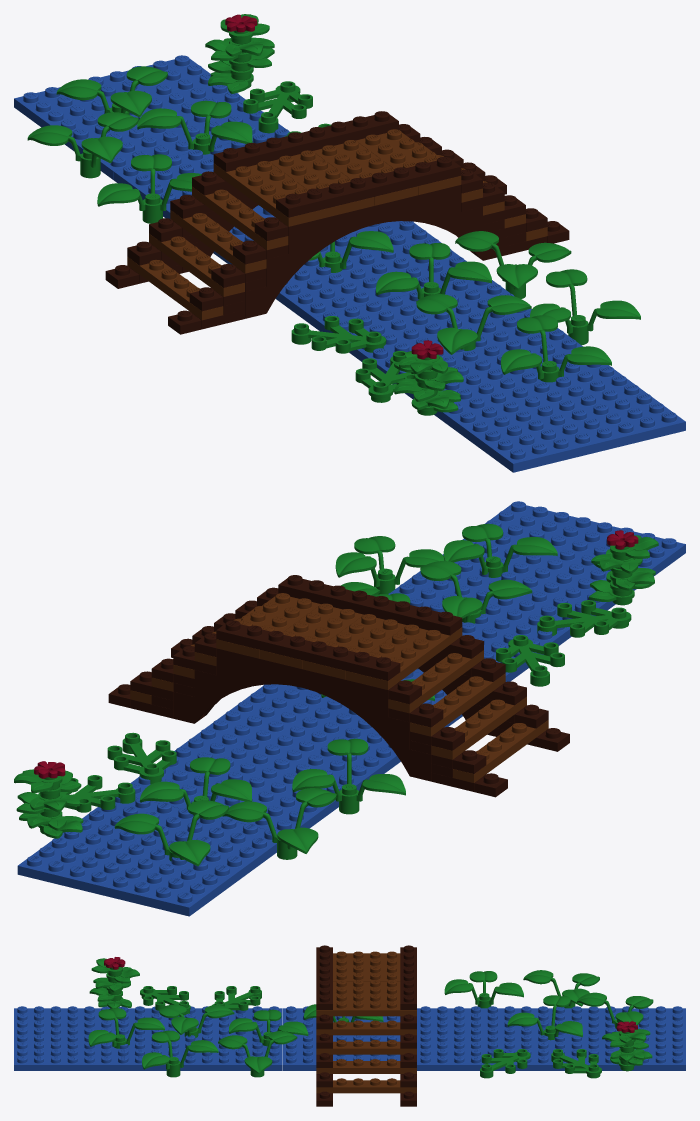
The model's file is bridge.glb.
3 views of the same model, one above another, from view 1: azimuth 30°, elevation 25°; view 2: azimuth 150°, elevation 25°; view 3: azimuth 270°, elevation 25° (orthographic). The views are drawn at different scales.
Parts seen in each view (by area): view 1: MB|23-material.016, MB|23-material.014, MB|23-material.018, MB|308-material.001, MB|308-material.002, MB|308-material.003, MB|192-material.008, MB|28-material.008, MB|28-material.003, MB|28-material.006, MB|28-material.004, MB|28-material.002 (+17 smaller); view 2: MB|23-material.014, MB|23-material.018, MB|23-material.016, MB|308-material, MB|308-material.003, MB|308-material.002, MB|28-material.009, MB|192-material.008, MB|28-material.003, MB|28-material.008, MB|28-material.004, MB|28-material.007 (+18 smaller); view 3: MB|23-material.016, MB|23-material.014, MB|23-material.018, MB|192-material.007, MB|28-material.004, MB|28-material.009, MB|28-material.006, MB|28-material.003, MB|192-material.016, MB|192-material.011, MB|192-material.013, MB|28-material.005 (+24 smaller).
Boxes of the visible parts, bbox=[...] form: MB|23-material.016: bbox=[313, 280, 685, 472]; MB|23-material.014: bbox=[114, 128, 467, 326]; MB|23-material.018: bbox=[14, 55, 285, 180]; MB|308-material.001: bbox=[245, 185, 504, 318]; MB|308-material.002: bbox=[276, 157, 461, 217]; MB|308-material.003: bbox=[213, 111, 398, 171]; MB|192-material.008: bbox=[213, 161, 331, 226]; MB|28-material.008: bbox=[27, 112, 138, 178]; MB|28-material.003: bbox=[501, 315, 611, 382]; MB|28-material.006: bbox=[137, 100, 252, 154]; MB|28-material.004: bbox=[530, 269, 640, 345]; MB|28-material.002: bbox=[376, 243, 491, 299]; MB|23-material.014: bbox=[130, 671, 462, 831]; MB|23-material.018: bbox=[17, 797, 278, 916]; MB|23-material.016: bbox=[388, 501, 685, 681]; MB|308-material: bbox=[173, 648, 431, 781]; MB|308-material.003: bbox=[216, 620, 400, 680]; MB|308-material.002: bbox=[278, 575, 462, 635]; MB|28-material.009: bbox=[292, 738, 405, 814]; MB|192-material.008: bbox=[345, 624, 462, 689]; MB|28-material.003: bbox=[443, 523, 557, 577]; MB|28-material.008: bbox=[222, 788, 336, 859]; MB|28-material.004: bbox=[335, 536, 444, 594]; MB|28-material.007: bbox=[114, 800, 228, 866]; MB|23-material.016: bbox=[14, 1006, 282, 1070]; MB|23-material.014: bbox=[283, 1006, 551, 1070]; MB|23-material.018: bbox=[551, 1006, 685, 1070]; MB|192-material.007: bbox=[316, 994, 416, 1016]; MB|28-material.004: bbox=[142, 1030, 218, 1077]; MB|28-material.009: bbox=[444, 971, 523, 1008]; MB|28-material.006: bbox=[507, 995, 582, 1040]; MB|28-material.003: bbox=[88, 1008, 164, 1048]; MB|192-material.016: bbox=[316, 1078, 416, 1093]; MB|192-material.011: bbox=[316, 1020, 416, 1035]; MB|192-material.013: bbox=[316, 1040, 416, 1054]; MB|28-material.005: bbox=[218, 1031, 297, 1077].
Bounding box in the file's own units: 6.33 × 1.63 × 14.07.
